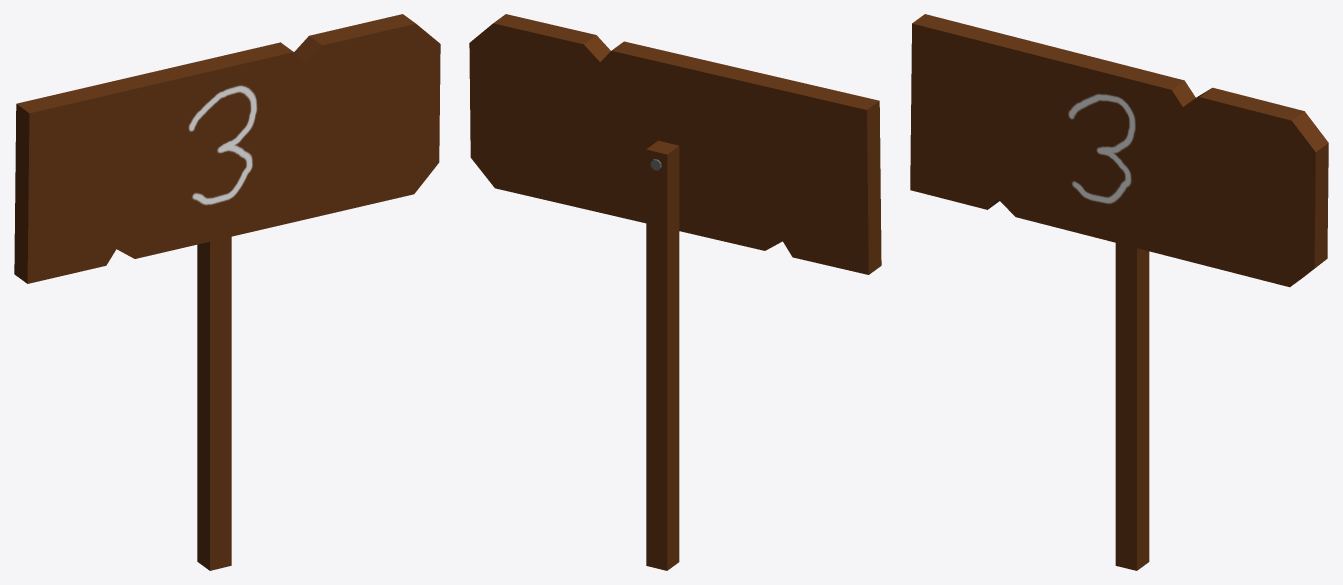
The model's file is sign3_3.glb.
3 renders of one model, left to right at view 1: azimuth 30°, elevation 25°; view 2: azimuth 150°, elevation 25°; view 3: azimuth 330°, elevation 25°, orthographic. The views are drawn at different scales.
Visible parts, largest first — view 1: Sign 3; view 2: Sign 3; view 3: Sign 3.
Part boxes in pixels (x1,y1,x2,y2): Sign 3: (14,14,440,570); Sign 3: (469,14,881,570); Sign 3: (910,14,1328,570).
Bounding box in the file's own units: 2.01 × 2.39 × 0.2277.
2 materials, 1 textured.
